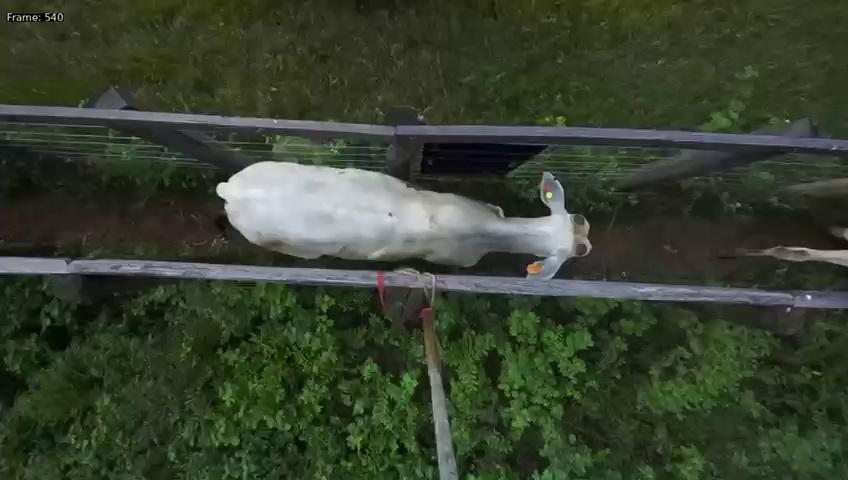cattle: (215, 152, 595, 287)
